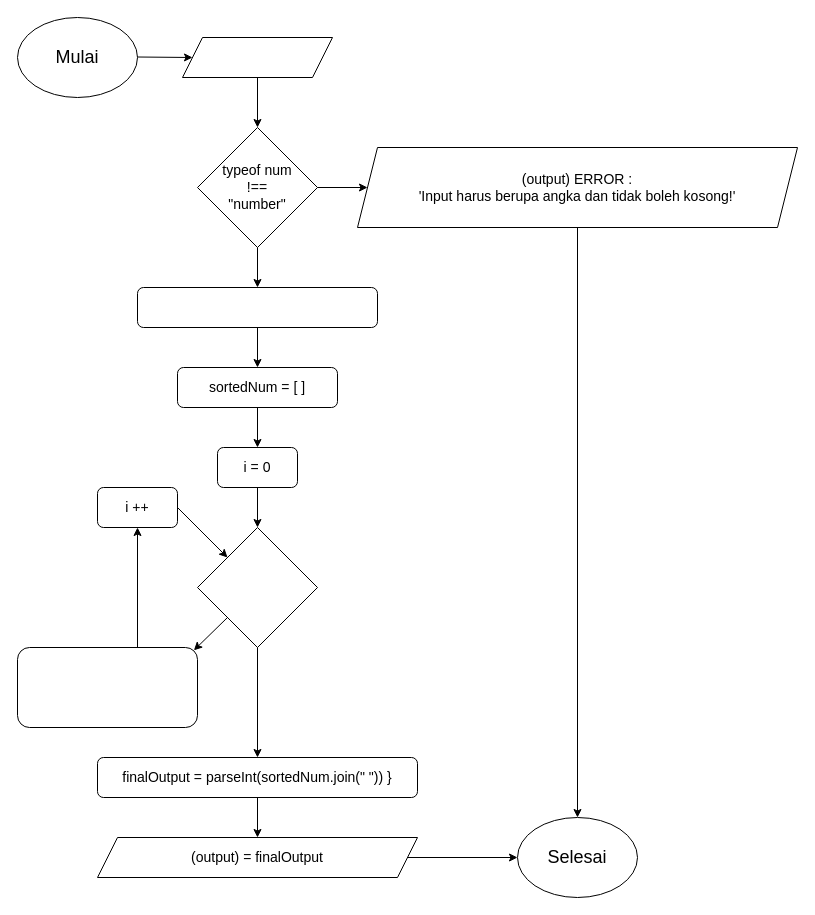
Image size: 815x915. Some labels were removed from this diagram. Each missing label, with the box of its shape:
(input angka): (182, 36, 332, 78)
i < numArray .length: (196, 526, 318, 648)
numArray = num.toString().split("0"): (136, 286, 378, 328)
sortedNum.push( ...numArray[ i ] .split( ).sort( )): (16, 646, 198, 728)
